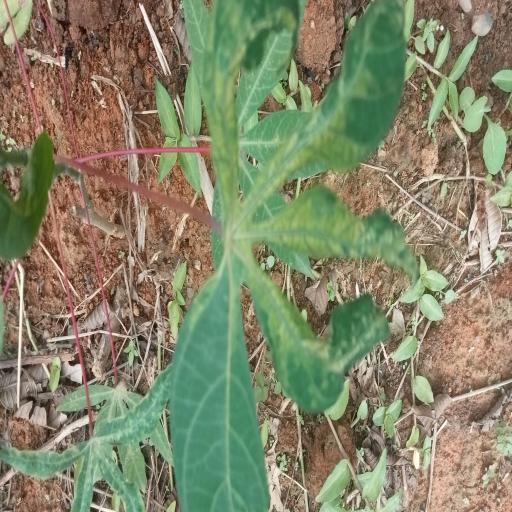Cassava_Mosaic: (169, 0, 420, 512)
